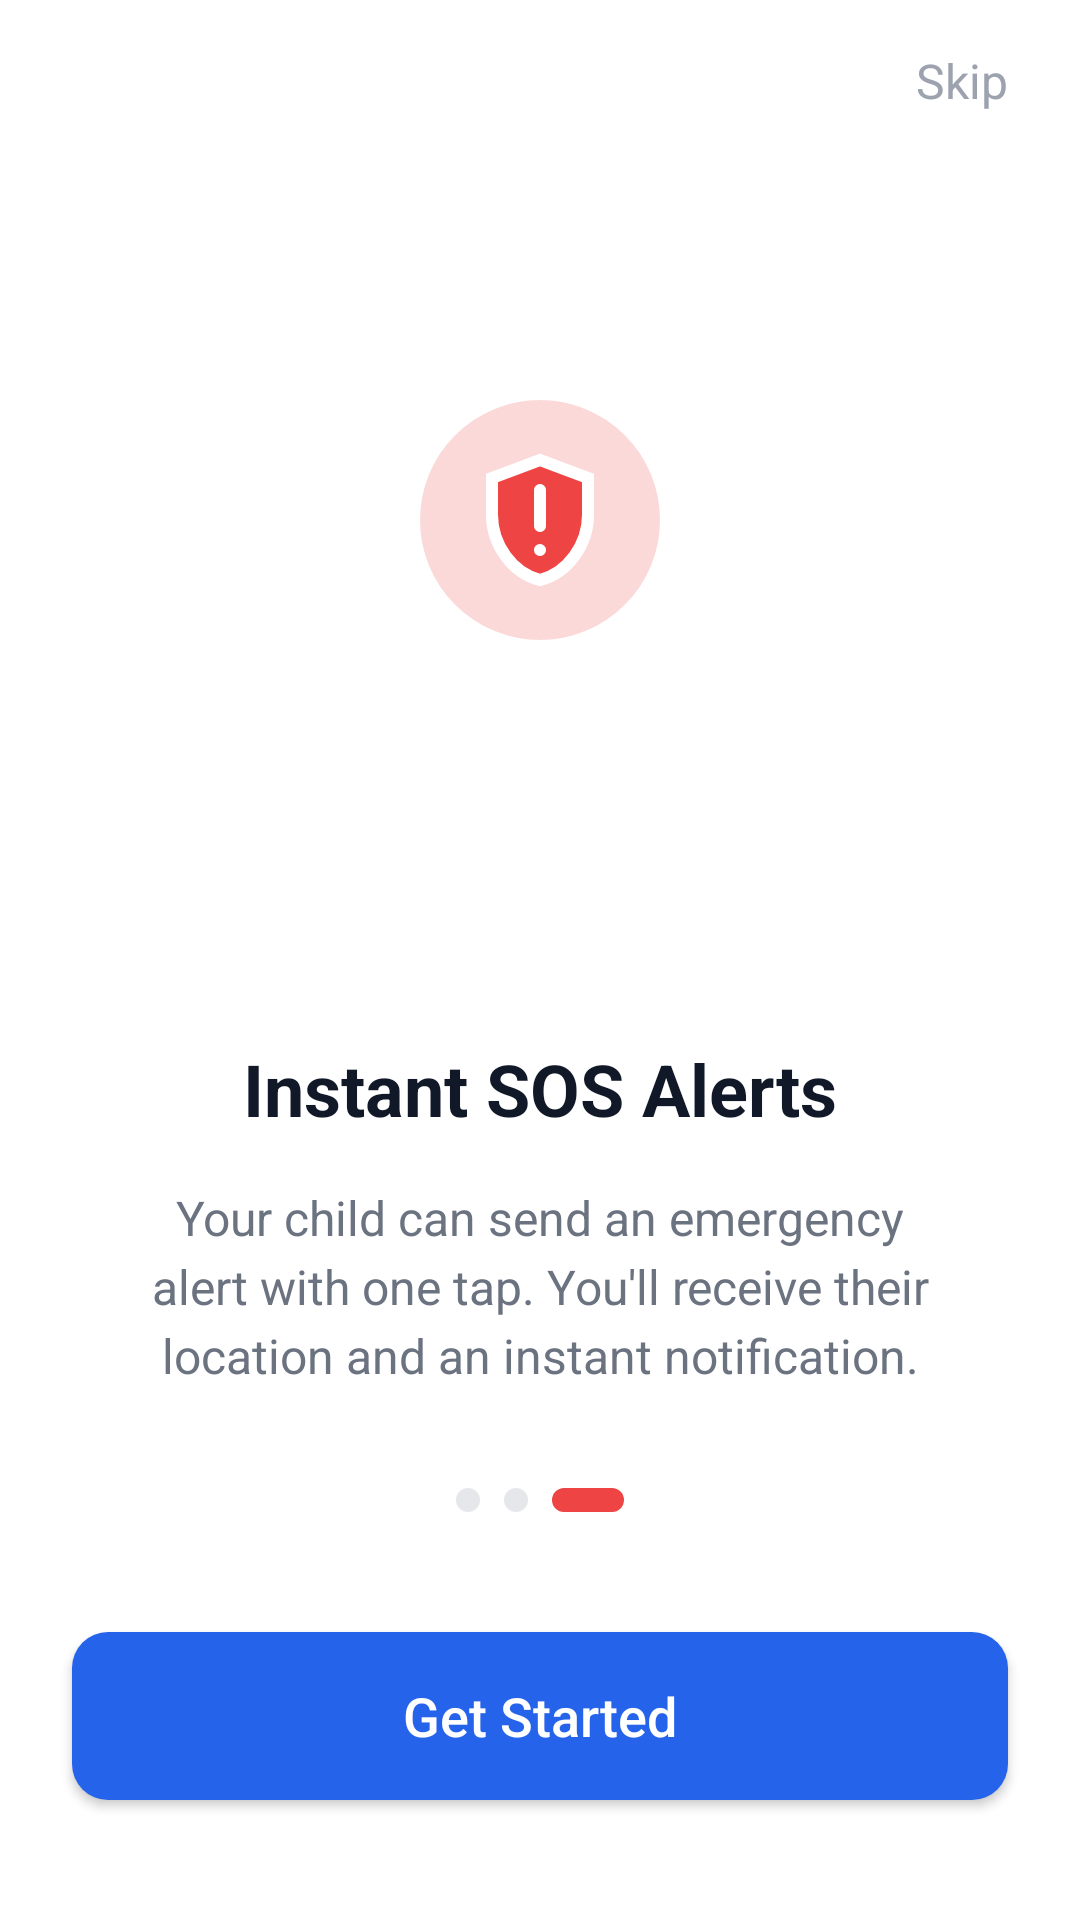

Screen size 1080×1920. Icon name, then its box in pixels as (x1, y1, x2, y2):
sos: (420, 400, 660, 640)
